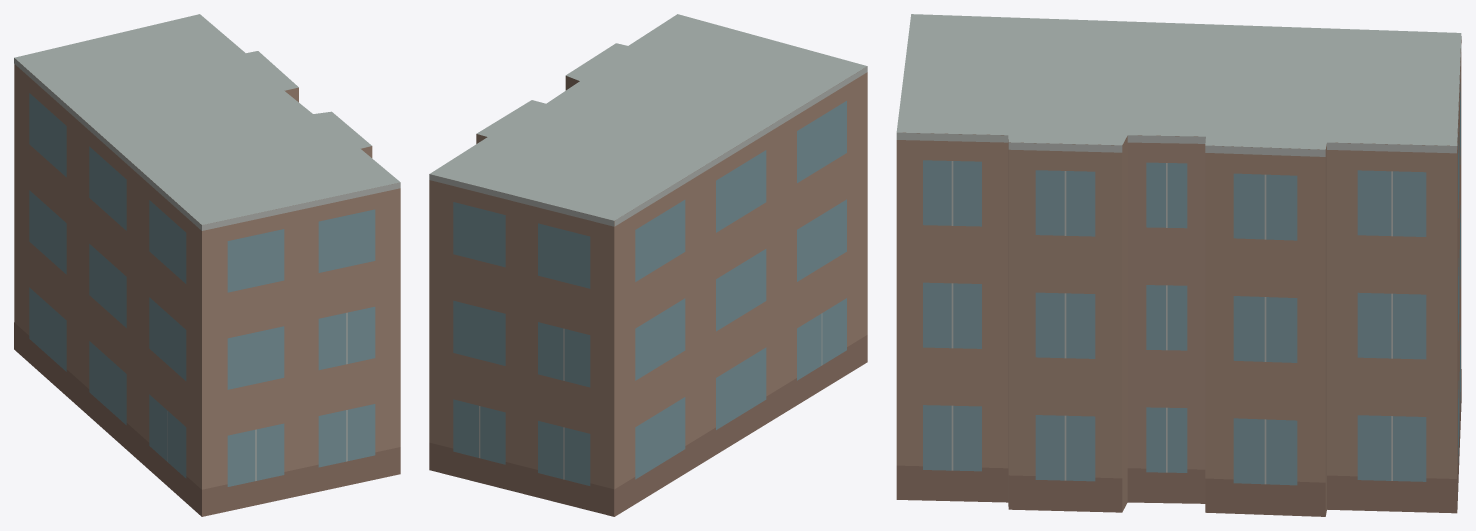
File: survey-upis-32499330.glb
3 renders of one model, left to right at view 1: azimuth 30°, elevation 25°; view 2: azimuth 150°, elevation 25°; view 3: azimuth 270°, elevation 25°, orthographic. The views are drawn at different scales.
Visible parts, largest first — view 1: survey-upis-32499330.tmp; view 2: survey-upis-32499330.tmp; view 3: survey-upis-32499330.tmp.
Part boxes in pixels (x1,y1,x2,y2): survey-upis-32499330.tmp: (14,14,400,516); survey-upis-32499330.tmp: (429,14,867,516); survey-upis-32499330.tmp: (896,14,1461,516).
Size of the model in its own units: 9.64 by 12.15 by 16.95.
